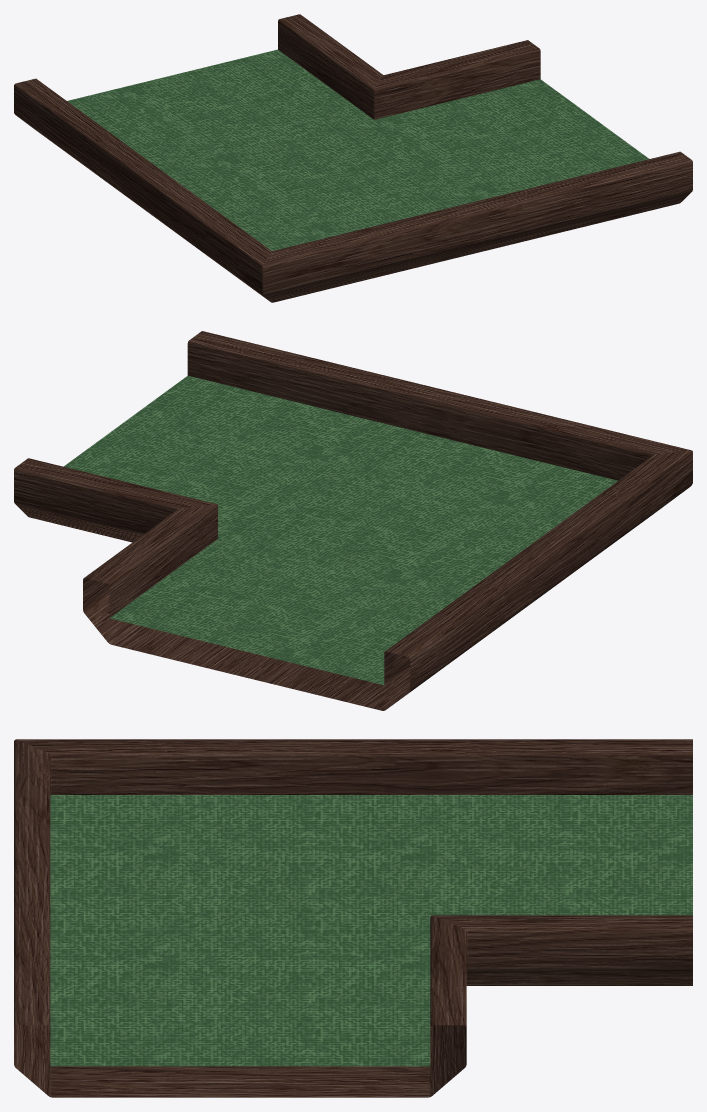
The model's file is Course_Corner.glb.
3 renders of one model, top to bottom at view 1: azimuth 30°, elevation 25°; view 2: azimuth 150°, elevation 25°; view 3: azimuth 270°, elevation 25°, orthographic. The views are drawn at different scales.
Visible parts, largest first — view 1: CourseTurn.Green, CourseTurn.Walls; view 2: CourseTurn.Green, CourseTurn.Walls; view 3: CourseTurn.Green, CourseTurn.Walls.
Boxes of the visible parts, left/top/right/bottom form: CourseTurn.Green: left=67, top=49, right=648, bottom=250; CourseTurn.Walls: left=14, top=14, right=692, bottom=302; CourseTurn.Green: left=64, top=375, right=617, bottom=685; CourseTurn.Walls: left=14, top=331, right=692, bottom=710; CourseTurn.Green: left=50, top=795, right=692, bottom=1066; CourseTurn.Walls: left=14, top=739, right=692, bottom=1097.
Bounding box in the file's own units: 1.5 × 0.1759 × 1.5.
1 material, 1 textured.
